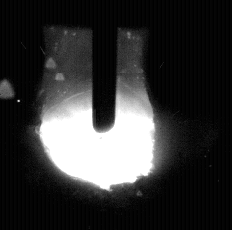arame: (93, 0, 117, 133)
poca: (40, 0, 156, 230)
